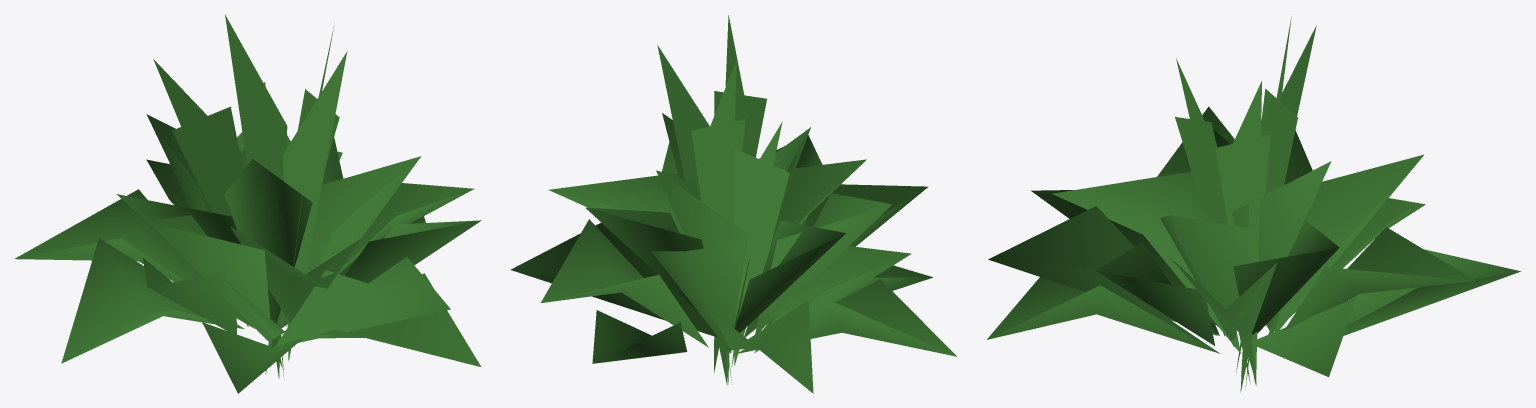
The model's file is Convallaria_Shrub_A.obj.
3 views of the same model, side by side, from view 1: azimuth 30°, elevation 25°; view 2: azimuth 150°, elevation 25°; view 3: azimuth 270°, elevation 25° (orthographic). The views are drawn at different scales.
Visible parts, largest first — view 1: Convallaria_Shrub_A; view 2: Convallaria_Shrub_A; view 3: Convallaria_Shrub_A.
Part boxes in pixels (x1,y1,x2,y2): Convallaria_Shrub_A: [15, 14, 481, 393]; Convallaria_Shrub_A: [510, 15, 957, 393]; Convallaria_Shrub_A: [987, 16, 1520, 392].
Size of the model in its own units: 1.65 by 1.35 by 1.81.
